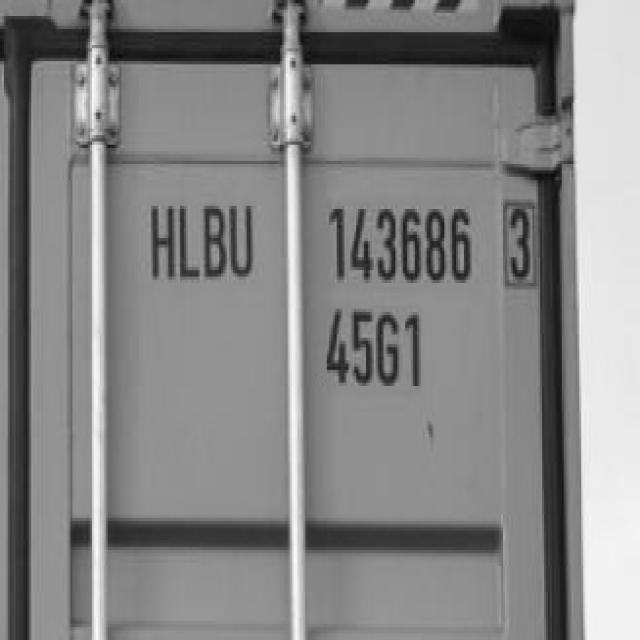dv: (498, 189, 540, 296)
owner: (141, 176, 254, 292)
serial: (329, 185, 478, 301)
size: (318, 301, 427, 399)
